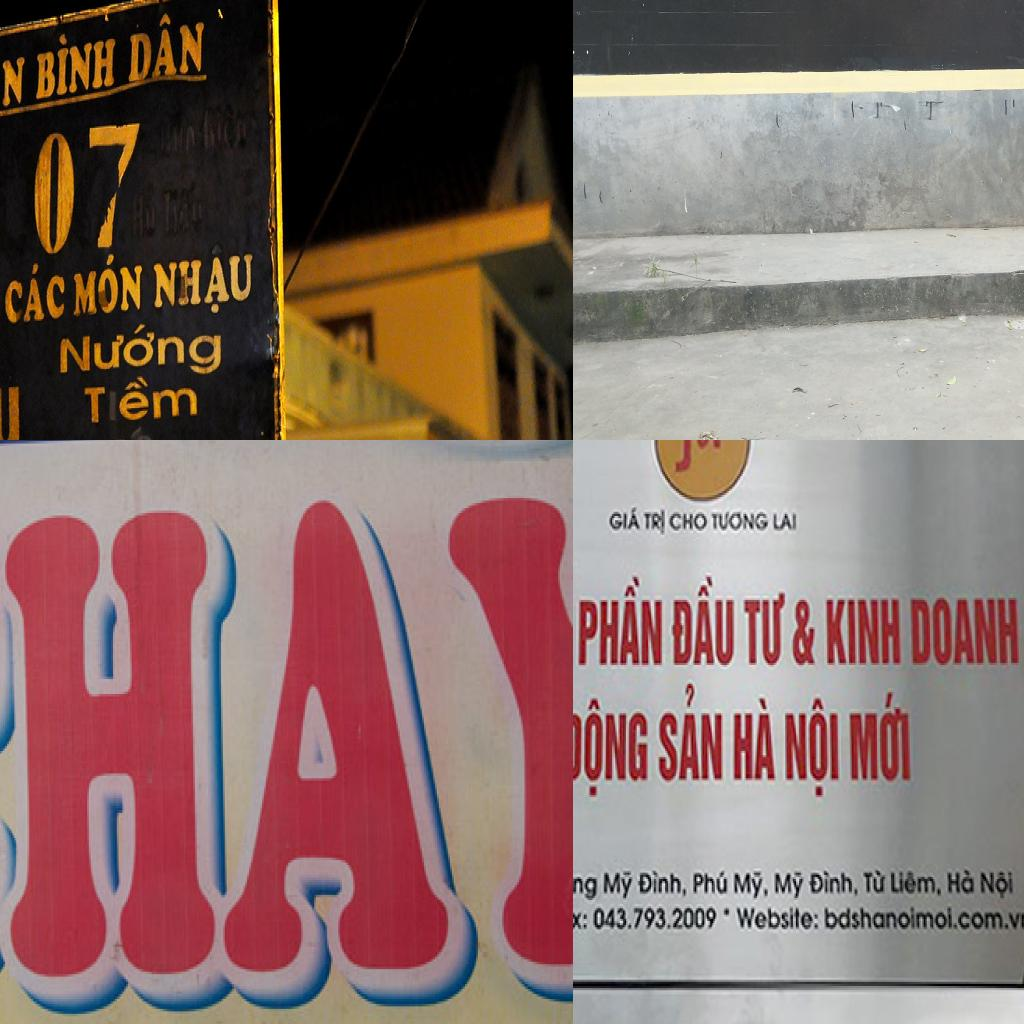text: (32, 114, 146, 259), (57, 318, 226, 384), (905, 594, 1022, 676), (573, 688, 655, 799), (573, 573, 664, 667), (150, 242, 255, 321), (656, 680, 726, 793), (666, 570, 736, 676), (846, 690, 917, 793), (780, 694, 842, 808), (822, 588, 902, 676), (33, 24, 119, 102), (82, 375, 204, 429), (127, 6, 208, 86), (69, 250, 146, 322), (730, 694, 779, 789), (1, 259, 66, 328), (737, 590, 788, 676), (592, 902, 720, 936), (737, 904, 821, 936), (0, 42, 28, 132), (790, 594, 819, 673), (808, 864, 862, 900), (710, 505, 771, 535), (637, 866, 690, 900), (890, 866, 942, 900), (732, 864, 773, 904), (692, 866, 732, 900), (980, 866, 1017, 902), (601, 864, 636, 902), (606, 501, 643, 535), (774, 866, 807, 904), (944, 862, 978, 896), (573, 864, 601, 904), (670, 508, 708, 537), (863, 864, 889, 900), (771, 508, 801, 539), (639, 505, 668, 537), (573, 902, 593, 933)
